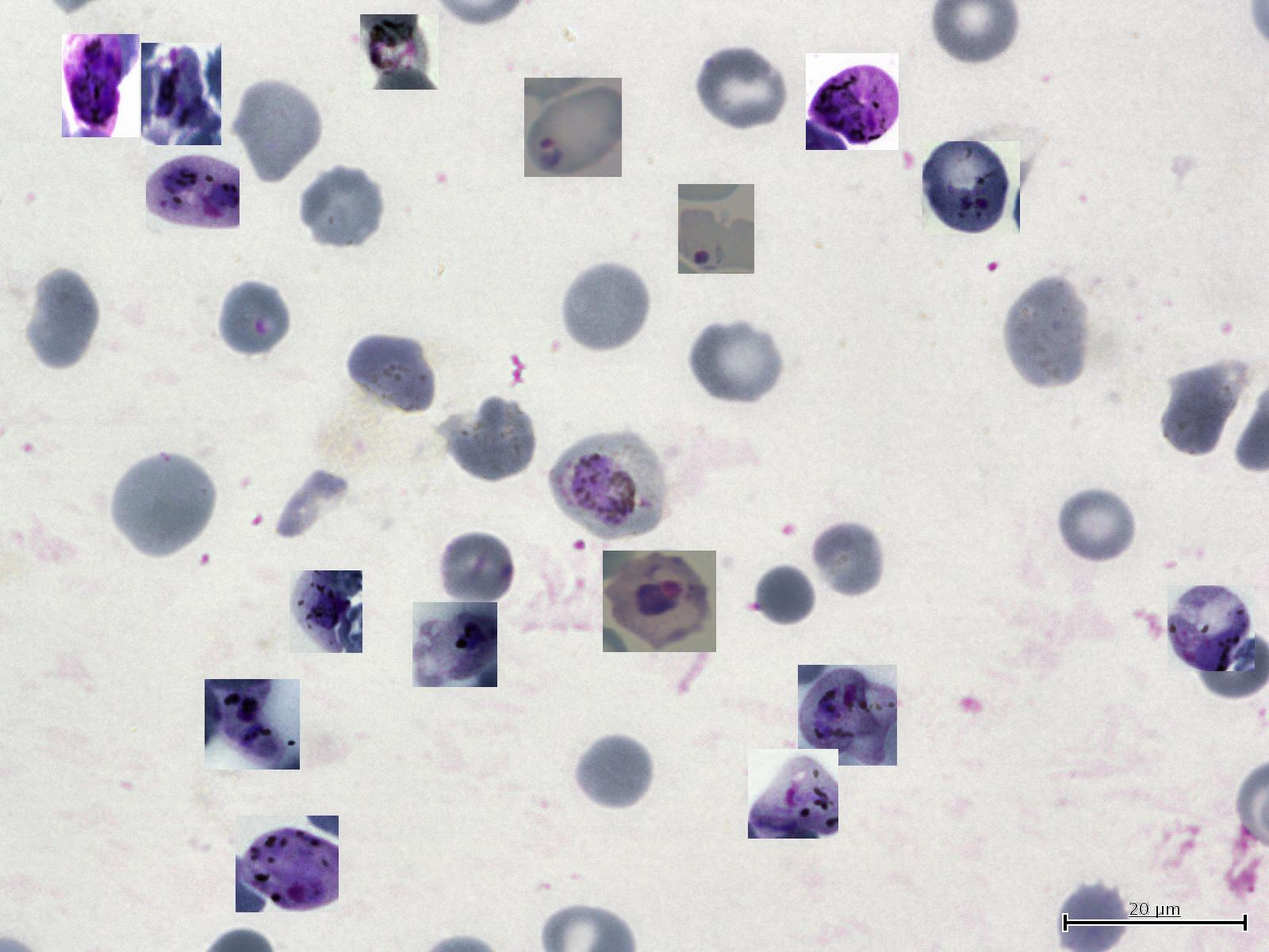Infected: (549, 428, 669, 540), (603, 551, 716, 652), (798, 665, 897, 766), (236, 816, 339, 912), (524, 78, 622, 177), (922, 141, 1020, 234), (806, 53, 899, 150), (205, 679, 300, 770), (141, 43, 221, 147), (748, 749, 838, 839), (63, 34, 140, 137), (146, 145, 240, 229), (1167, 585, 1255, 671), (412, 603, 497, 688), (679, 184, 755, 274), (289, 570, 362, 653), (360, 14, 439, 90)
Uninfected: (109, 451, 217, 557), (1000, 276, 1091, 390), (231, 77, 321, 184), (692, 42, 791, 135), (443, 391, 539, 485), (1160, 360, 1249, 461), (559, 259, 653, 354), (688, 317, 784, 406), (21, 270, 102, 372), (343, 330, 435, 418), (298, 163, 385, 251), (1056, 485, 1137, 566), (573, 732, 655, 812), (808, 519, 887, 597), (437, 530, 516, 608), (217, 282, 293, 354), (752, 564, 814, 622)
